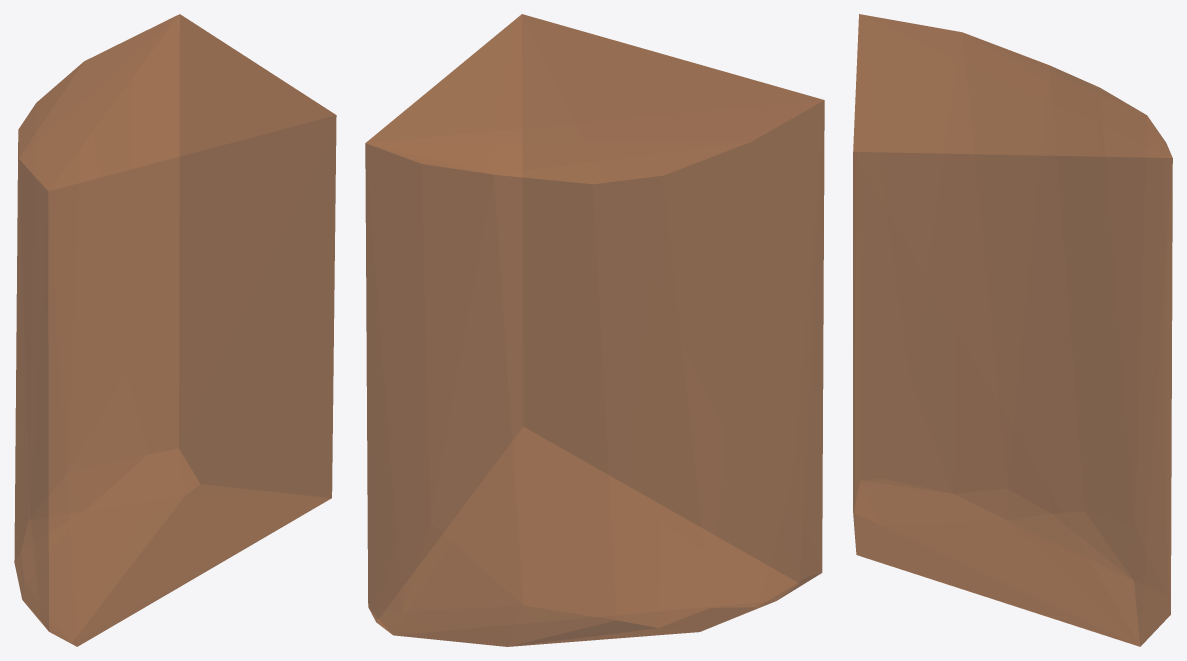
The picture shows the model from 3 angles, left to right: view 1: azimuth 30°, elevation 25°; view 2: azimuth 150°, elevation 25°; view 3: azimuth 270°, elevation 25°; orthographic projection. The views are drawn at different scales.
Visible parts, largest first — view 1: Shape_IndexedFaceSet.005_Shape_IndexedFaceSet.1756; view 2: Shape_IndexedFaceSet.005_Shape_IndexedFaceSet.1756; view 3: Shape_IndexedFaceSet.005_Shape_IndexedFaceSet.1756.
Boxes of the visible parts, <box> form: Shape_IndexedFaceSet.005_Shape_IndexedFaceSet.1756: <box>14,14,336,646</box>; Shape_IndexedFaceSet.005_Shape_IndexedFaceSet.1756: <box>365,14,824,646</box>; Shape_IndexedFaceSet.005_Shape_IndexedFaceSet.1756: <box>853,14,1172,646</box>.
Size of the model in its own units: 0.131 by 0.2091 by 0.1204.
